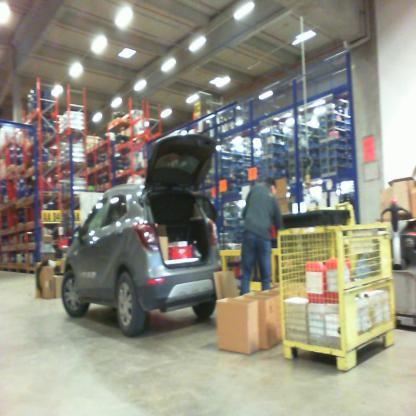pallet_truck: (371, 191, 416, 331)
stillage: (280, 217, 399, 385)
